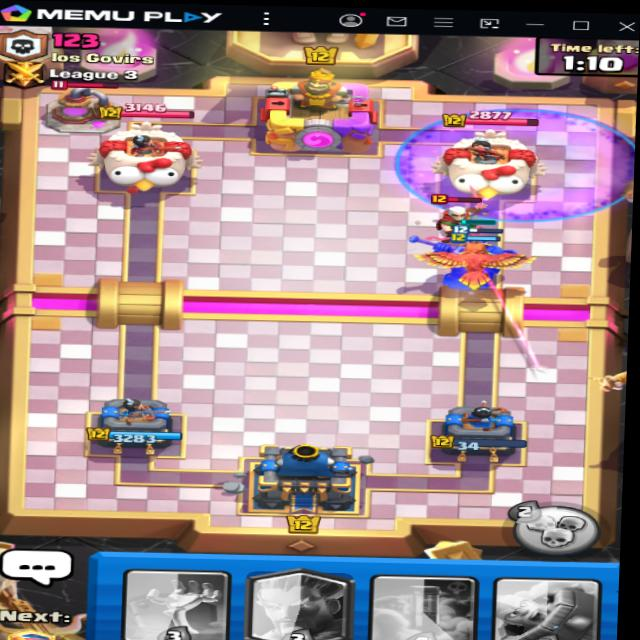Marcher: (421, 191, 496, 246)
Pump: (23, 76, 126, 134)
